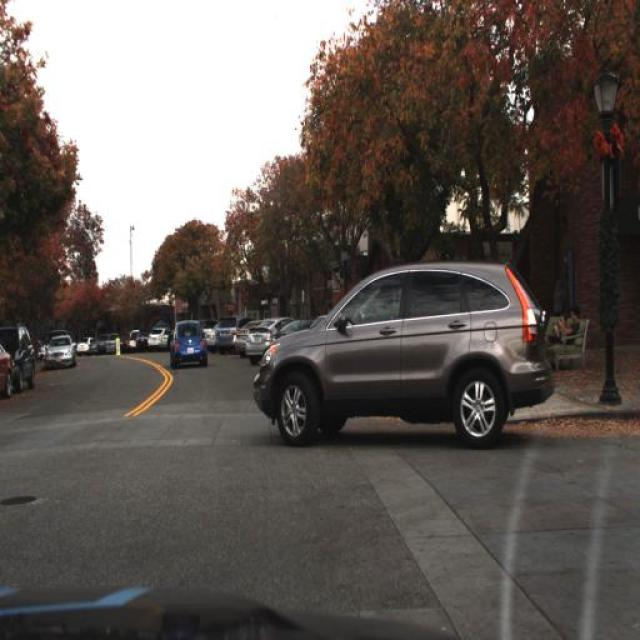car: (252, 244, 556, 442), (2, 325, 38, 394), (170, 314, 208, 374), (44, 335, 77, 370), (0, 345, 12, 403), (146, 326, 166, 350), (76, 337, 90, 361)
trafficLight: (564, 297, 580, 355), (552, 272, 566, 314), (551, 302, 565, 342), (567, 305, 582, 331), (554, 307, 568, 332)
